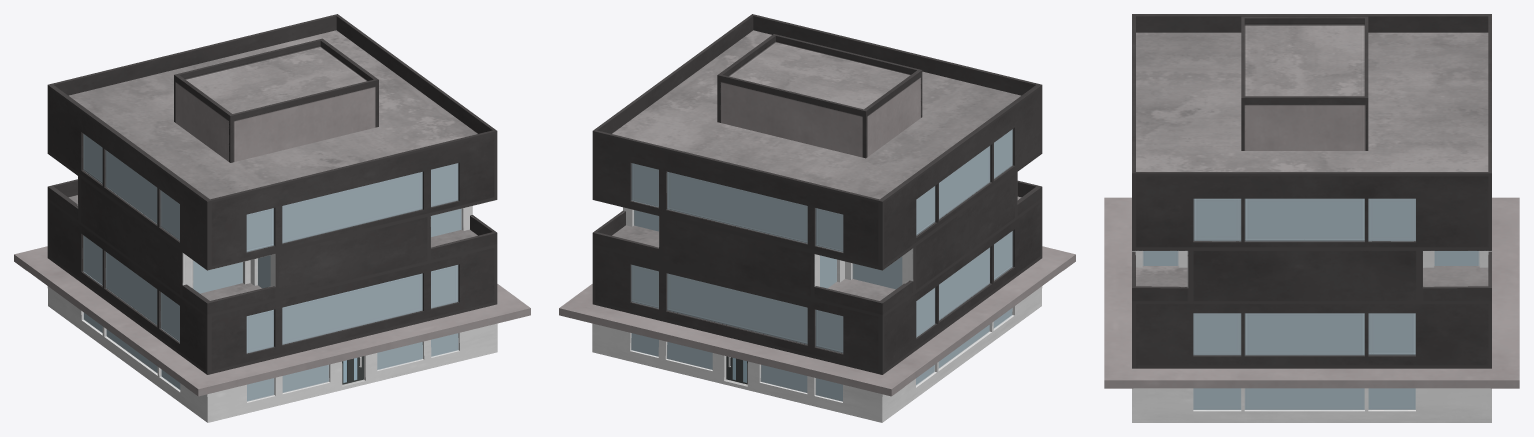
The model's file is property_center.glb.
3 views of the same model, side by side, from view 1: azimuth 30°, elevation 25°; view 2: azimuth 150°, elevation 25°; view 3: azimuth 270°, elevation 25° (orthographic). The views are drawn at different scales.
Visible parts, largest first — view 1: Building_office, Door3; view 2: Building_office, Door29; view 3: Building_office.
Part boxes in pixels (x1=…): Building_office: x1=14, y1=14, x2=530, y2=422; Door3: x1=342, y1=356, x2=363, y2=384; Building_office: x1=559, y1=14, x2=1075, y2=422; Door29: x1=726, y1=356, x2=747, y2=384; Building_office: x1=1104, y1=14, x2=1519, y2=422.
Bounding box in the file's own units: 3.13 × 2.28 × 3.
2 materials, 2 textured.
